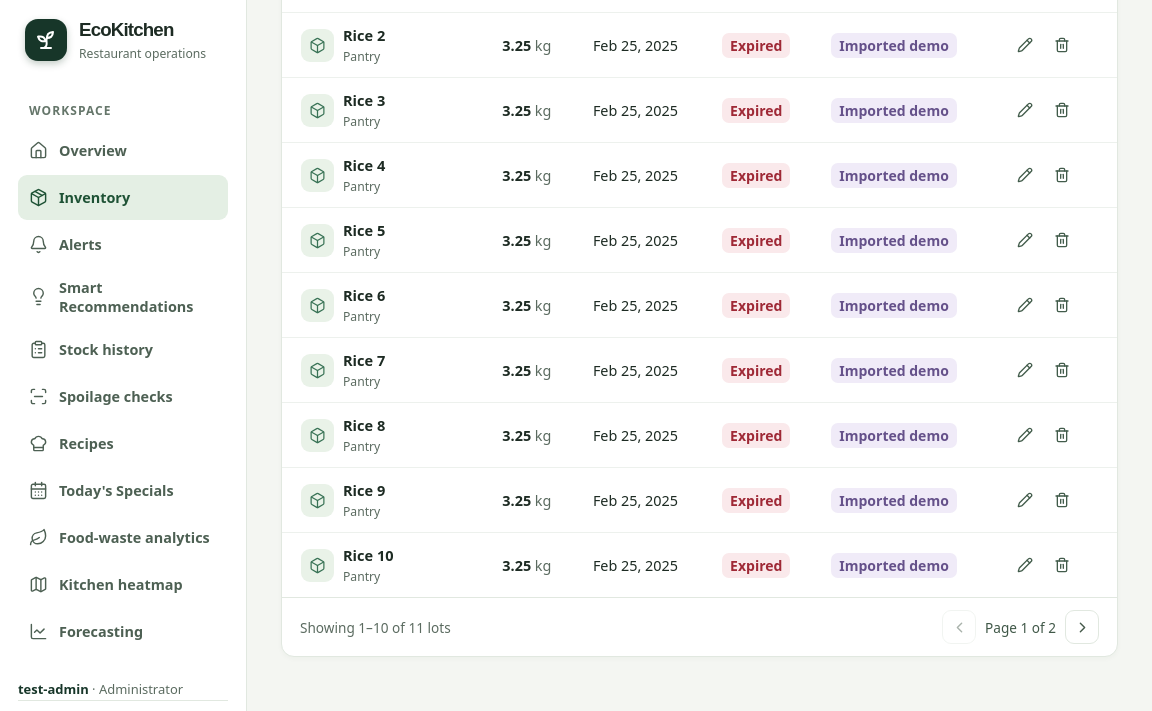
Test: EcoKitchen dashboard › paginates inventory, searches beyond the first page and filters by source
(page scrolled)
Expected: the text "Showing 1–10 of 11 lots" is shown, [300, 618, 451, 637]
Step 1. Click the button named "Next page" → (1082, 627), box [1065, 610, 1099, 644]
(page scrolled)
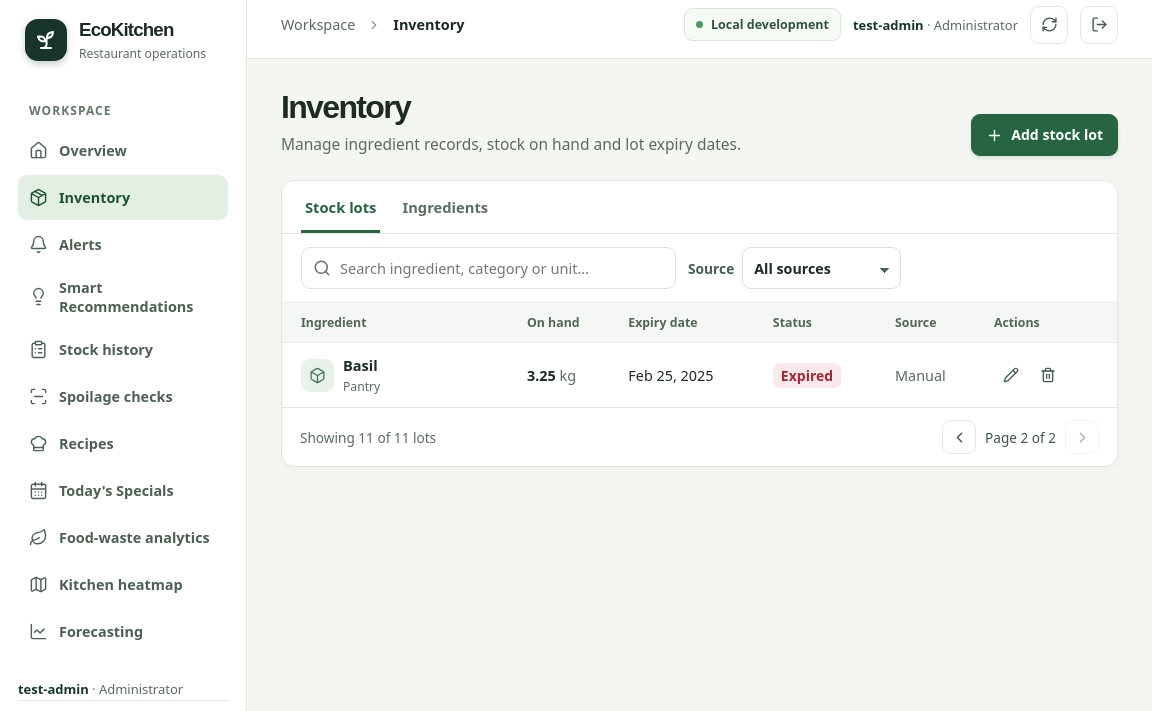
Expected: the text "Showing 11 of 11 lots" is shown, [300, 428, 436, 447]
Step 2. Type "Basil" into the search field named "Search stock lots" → (502, 268), box [340, 258, 664, 278]
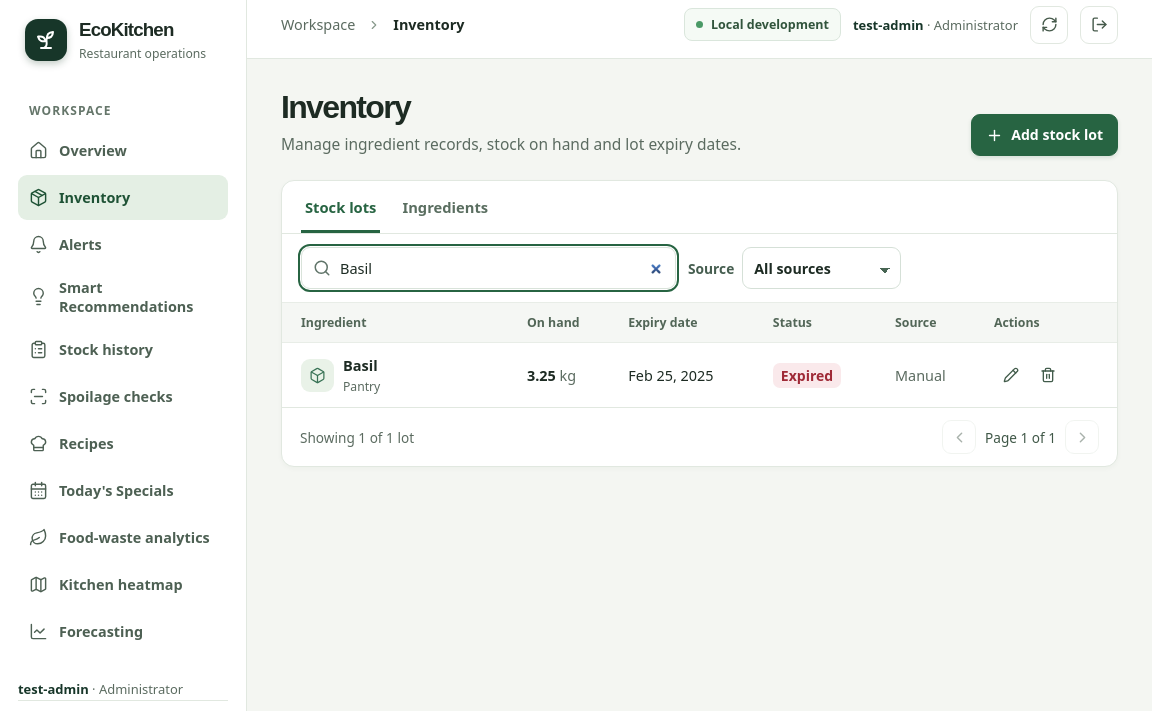
Expected: the text "Basil" is shown, [343, 355, 380, 375]
Expected: the text "Showing 1 of 1 lot" is shown, [300, 428, 414, 447]
Step 3. Select "Imported demo" in the dropdown labelled "Source" → (822, 268), box [742, 247, 901, 289]
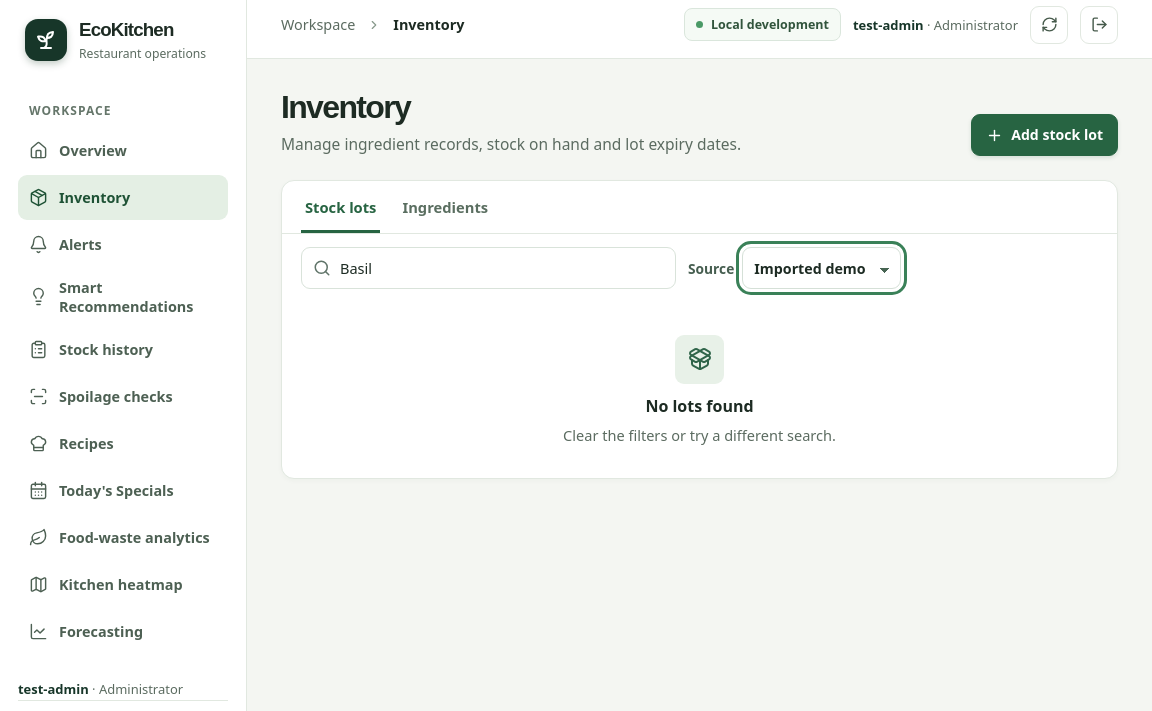
Expected: the heading "No lots found" is shown, [645, 394, 754, 416]
